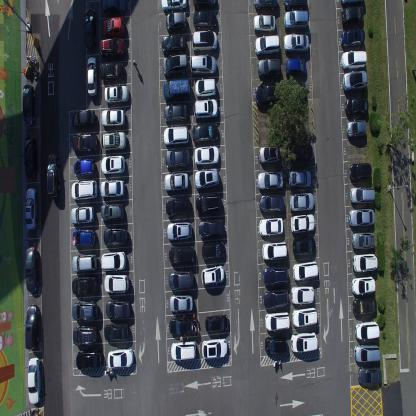car: (45, 153, 60, 198), (23, 136, 38, 181), (24, 245, 38, 293), (27, 357, 41, 405), (162, 52, 188, 77), (163, 77, 190, 101), (190, 52, 217, 76), (201, 336, 228, 360), (290, 330, 318, 353), (25, 304, 39, 350), (170, 338, 197, 361), (107, 346, 134, 369), (22, 83, 36, 127), (24, 187, 38, 231), (192, 120, 218, 143), (254, 33, 280, 56), (292, 259, 318, 282), (198, 216, 224, 239), (100, 37, 126, 60), (191, 30, 218, 52), (262, 264, 289, 286), (262, 287, 289, 309), (167, 269, 194, 291), (100, 249, 127, 271), (84, 5, 97, 50), (196, 192, 221, 215), (258, 191, 284, 213), (255, 84, 281, 106), (352, 252, 378, 274), (264, 310, 290, 332), (101, 130, 127, 152), (72, 133, 98, 155), (162, 124, 189, 145), (256, 170, 284, 190), (289, 141, 313, 164), (284, 79, 308, 102), (201, 263, 225, 286), (102, 15, 126, 38), (194, 144, 219, 166), (283, 8, 308, 30), (340, 27, 365, 49), (342, 70, 367, 92), (262, 240, 287, 262), (104, 272, 129, 294), (72, 324, 97, 346), (164, 147, 190, 168), (192, 98, 218, 119), (258, 215, 284, 236), (283, 32, 309, 53), (354, 320, 380, 341), (291, 306, 317, 327), (166, 221, 192, 242), (168, 245, 194, 266), (169, 315, 195, 336), (105, 298, 131, 319), (72, 275, 98, 296), (72, 300, 98, 321), (100, 154, 126, 175), (104, 83, 130, 104), (353, 342, 380, 362), (348, 160, 372, 182), (166, 196, 190, 218), (201, 239, 225, 261), (205, 312, 229, 334), (71, 108, 95, 130), (289, 190, 314, 211), (192, 8, 217, 29), (290, 212, 315, 233), (103, 226, 128, 247), (100, 61, 125, 82), (163, 172, 189, 192), (103, 321, 129, 341), (71, 252, 97, 272), (76, 350, 103, 369), (288, 167, 312, 188), (257, 57, 281, 78), (344, 96, 368, 117), (100, 201, 124, 222), (194, 168, 219, 188), (341, 48, 366, 68), (350, 184, 375, 204), (351, 275, 376, 295), (290, 284, 315, 304), (168, 294, 194, 313), (348, 208, 375, 226), (194, 76, 216, 98), (292, 235, 315, 256), (164, 102, 188, 122), (161, 32, 185, 52), (340, 5, 364, 25), (358, 365, 382, 385), (264, 335, 288, 355), (72, 228, 96, 248), (100, 178, 124, 198), (258, 143, 280, 164), (346, 117, 368, 138), (253, 12, 276, 32), (101, 108, 125, 127), (86, 55, 97, 96), (352, 297, 377, 315), (166, 10, 186, 32), (285, 56, 306, 76), (352, 230, 375, 248), (159, 0, 187, 14), (102, 0, 126, 15), (254, 0, 278, 12), (192, 0, 218, 11), (283, 0, 307, 9)
